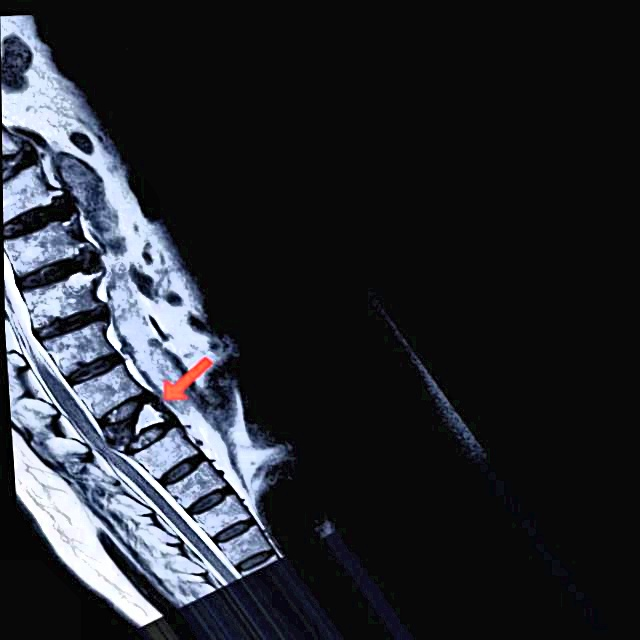Comminuted: (89, 389, 186, 466)
